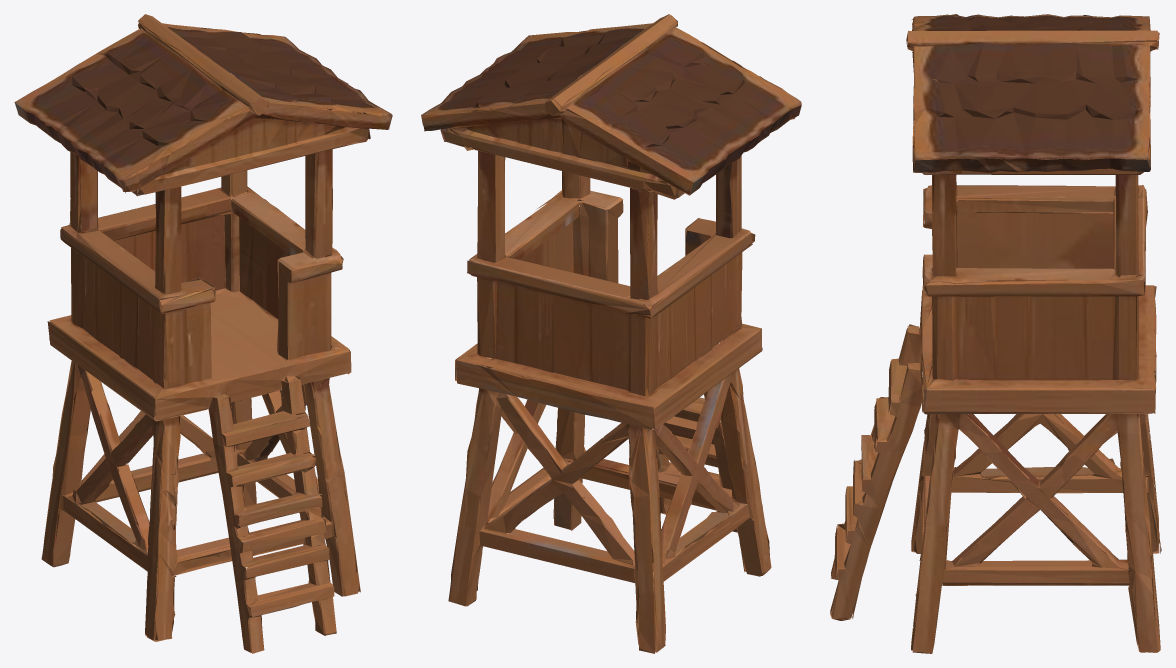
The model's file is watchtower.glb.
3 views of the same model, side by side, from view 1: azimuth 30°, elevation 25°; view 2: azimuth 150°, elevation 25°; view 3: azimuth 270°, elevation 25° (orthographic). The views are drawn at different scales.
Parts seen in each view (by area): view 1: obj.obj; view 2: obj.obj; view 3: obj.obj.
Part boxes in pixels (<box>): obj.obj: <box>14,14,392,653</box>; obj.obj: <box>421,14,801,653</box>; obj.obj: <box>830,14,1161,653</box>.
Size of the model in its own units: 2.99 by 5.5 by 2.9.
Materials: 1 (1 with a texture image).
